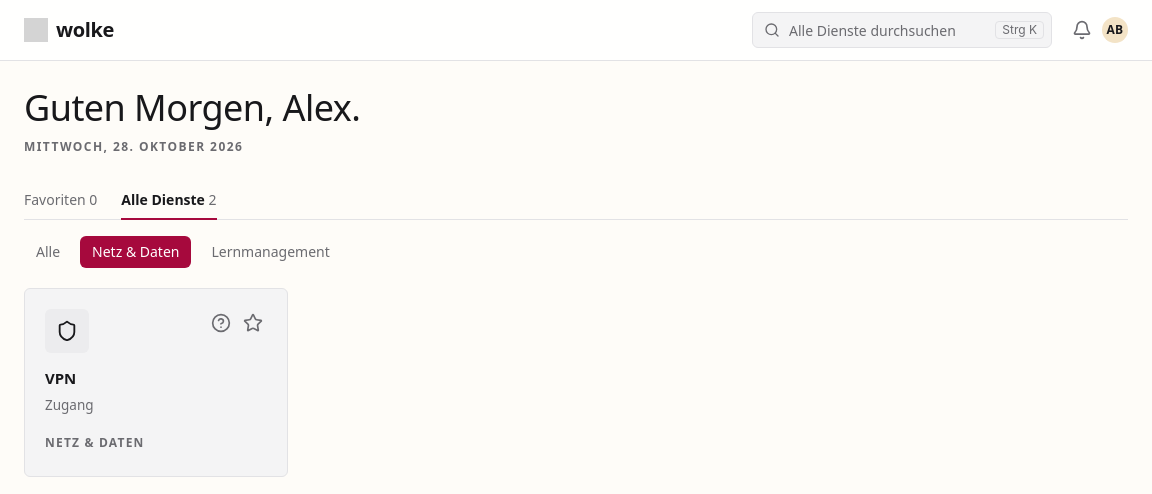
it: Dashboard tab navigation resets the filter (issue #31) › re-clicking the already-active Dienste tab clears an active category filter
Expected: the link named "VPN" is shown, left=25, top=289, right=287, bottom=476
Click the button "Alle Dienste 2": (169, 205) left=121, top=190, right=217, bottom=220
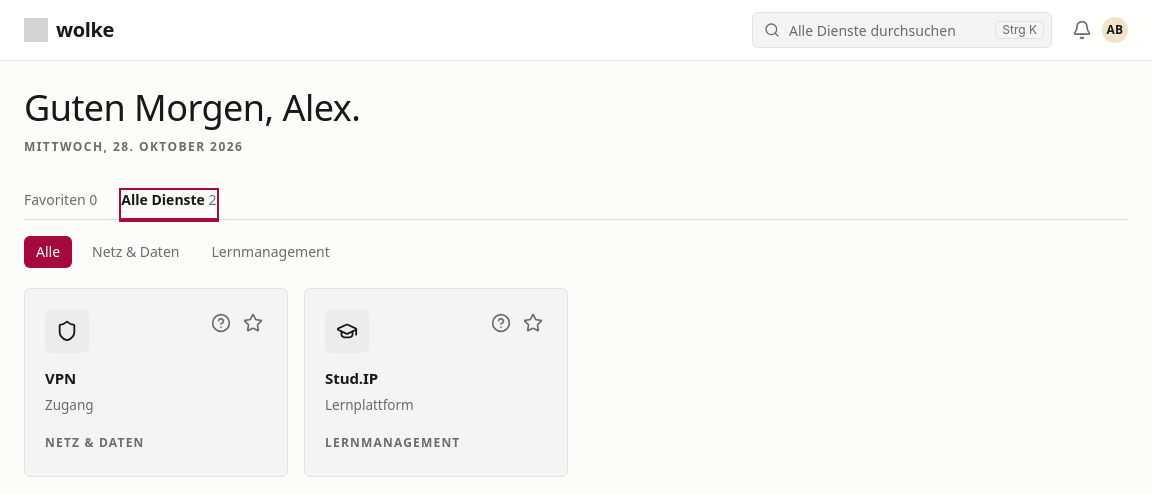
Now the link named "Stud.IP" is shown, box left=305, top=289, right=567, bottom=476
